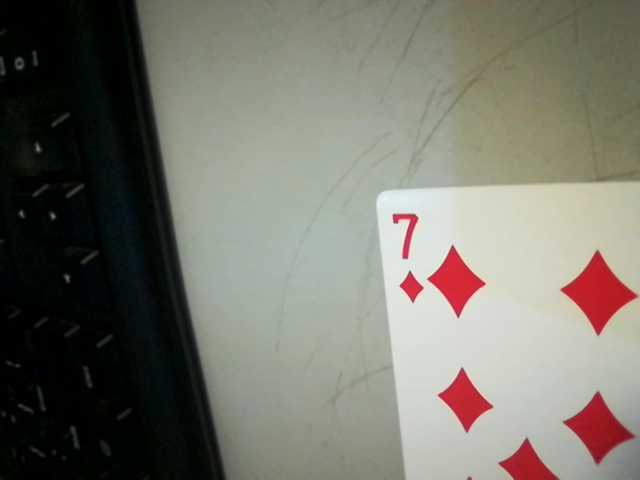fk 7: (381, 198, 433, 310)
